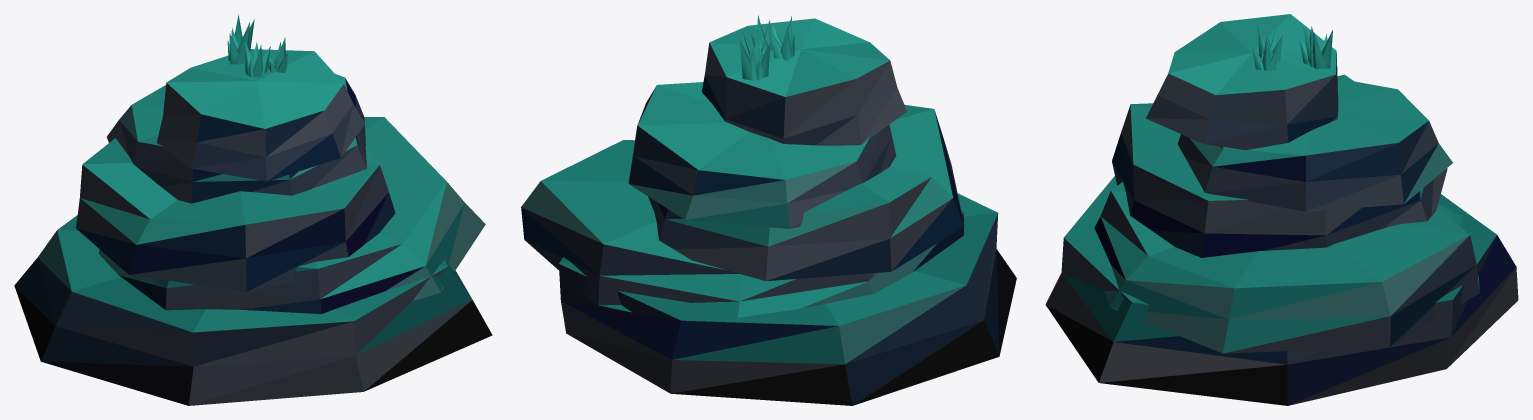
File: batu_slate_basalt_637348.glb
3 views of the same model, side by side, from view 1: azimuth 30°, elevation 25°; view 2: azimuth 150°, elevation 25°; view 3: azimuth 270°, elevation 25° (orthographic). The views are drawn at different scales.
Parts seen in each view (by area): view 1: Batu_Pipih_Bertumpuk; view 2: Batu_Pipih_Bertumpuk; view 3: Batu_Pipih_Bertumpuk.
Part boxes in pixels (x1,y1,x2,y2): Batu_Pipih_Bertumpuk: (14, 14, 492, 405); Batu_Pipih_Bertumpuk: (521, 15, 1016, 405); Batu_Pipih_Bertumpuk: (1045, 14, 1518, 405).
Bounding box in the file's own units: 5.08 × 3.17 × 4.8.
